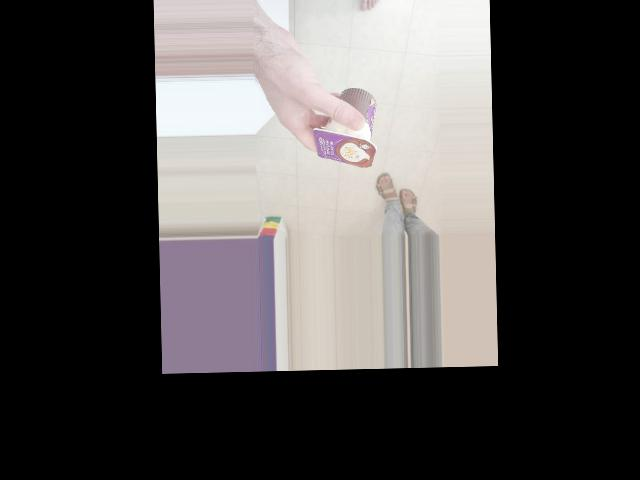milky: (326, 114, 418, 175)
